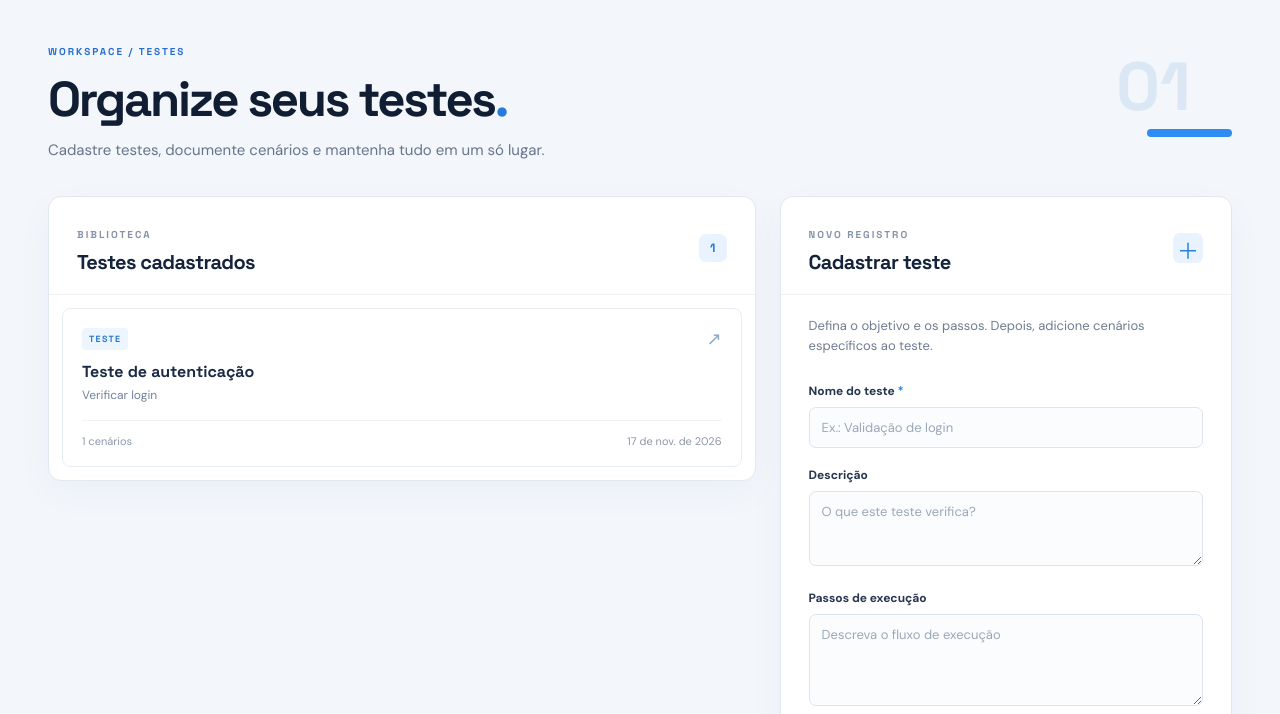
Test: TES-55/56/61/62: execução manual e histórico › mostra histórico recente primeiro, responsável e evidências
Click the button "Teste de autenticação" at (105, 339), box [62,308,742,467]
(page scrolled)
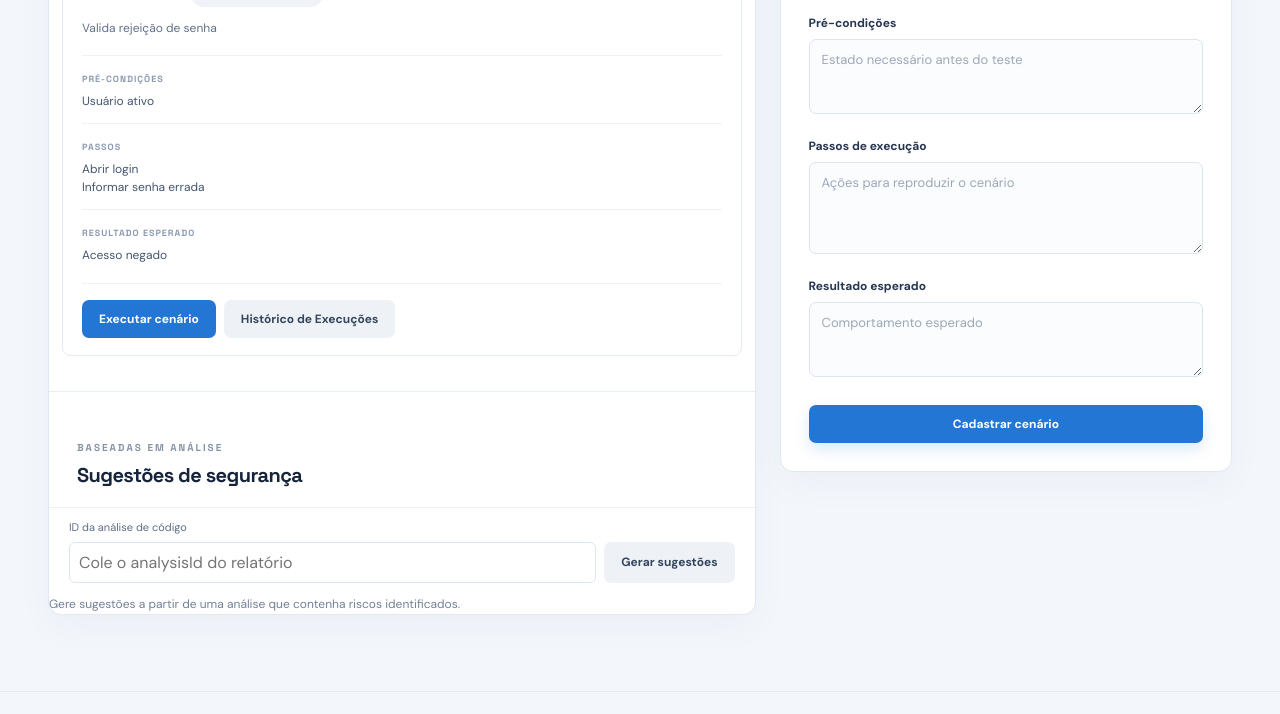
Click the button "Histórico de Execuções" at (310, 319), box [224,300,396,338]
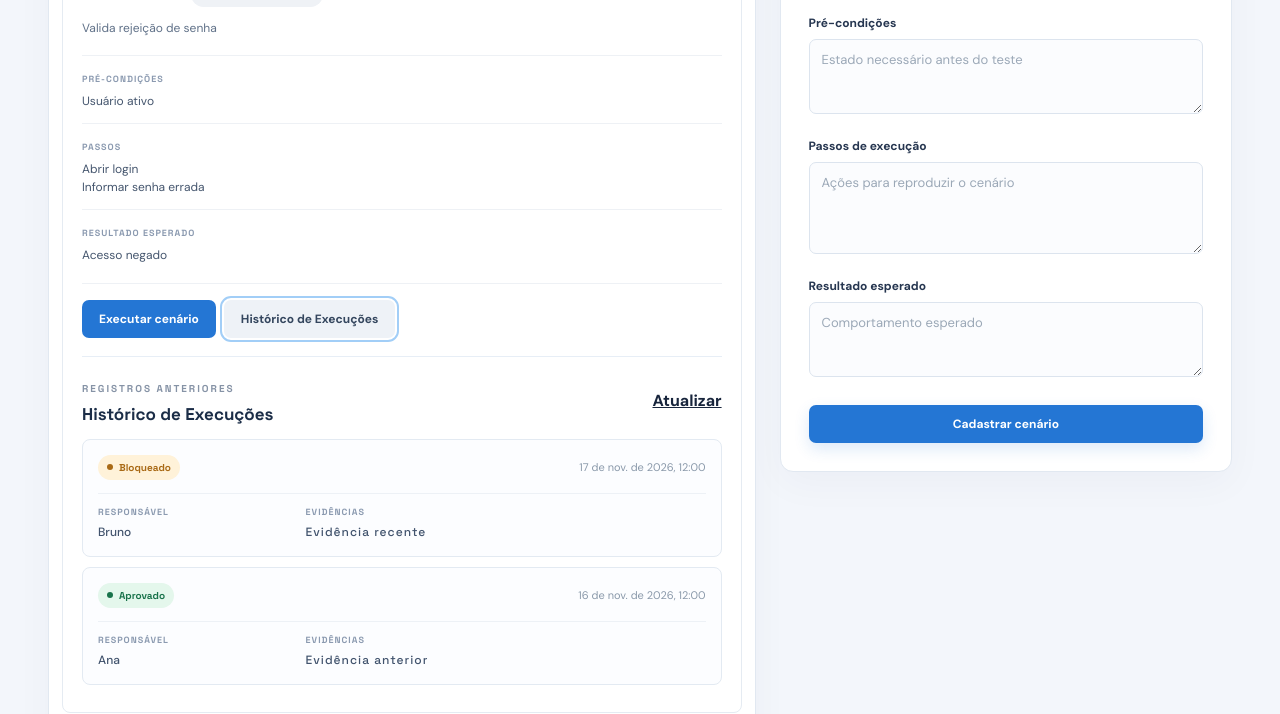
Now the element that starts with "Bloqueado" is shown, box [119,461,171,474]
Now the element that starts with "Bloqueado" shows "Bruno", box [98,524,131,540]
Now the element that starts with "Bloqueado" shows "Evidência recente", box [306,524,426,540]
